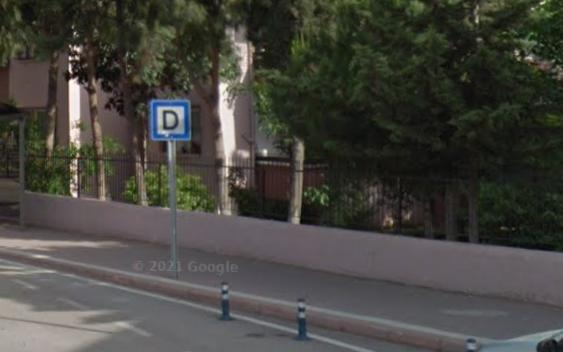station: (153, 101, 189, 140)
